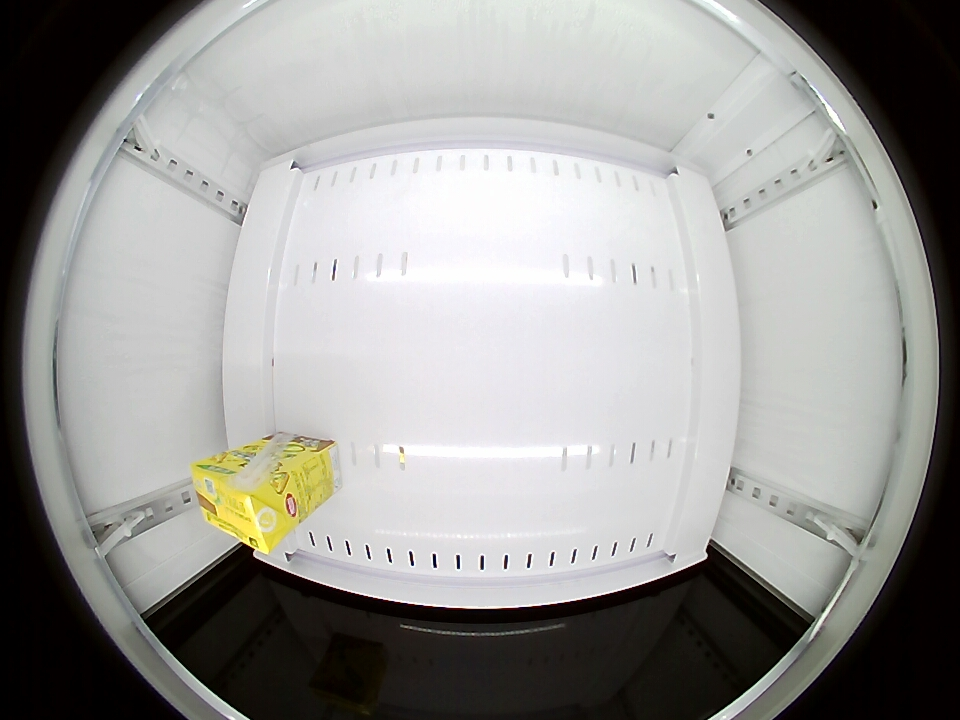weitaningmeng: (191, 453, 296, 553)
